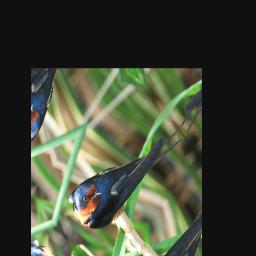Swallow: (62, 95, 184, 247)
